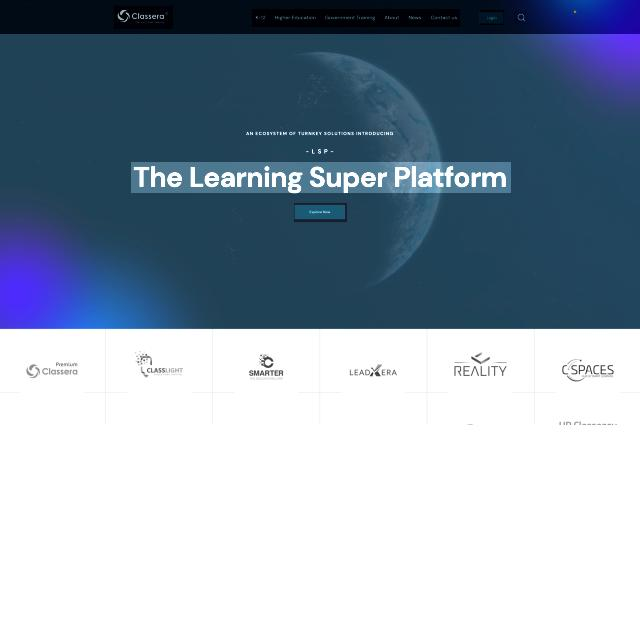CheckBox: (294, 203, 347, 222), (480, 10, 504, 25)
bag: (0, 0, 640, 34)
card: (0, 0, 640, 329)
carousel: (514, 11, 526, 24)
date picker: (114, 6, 173, 29)
decoration: (252, 9, 460, 27)
image: (131, 162, 511, 193)
